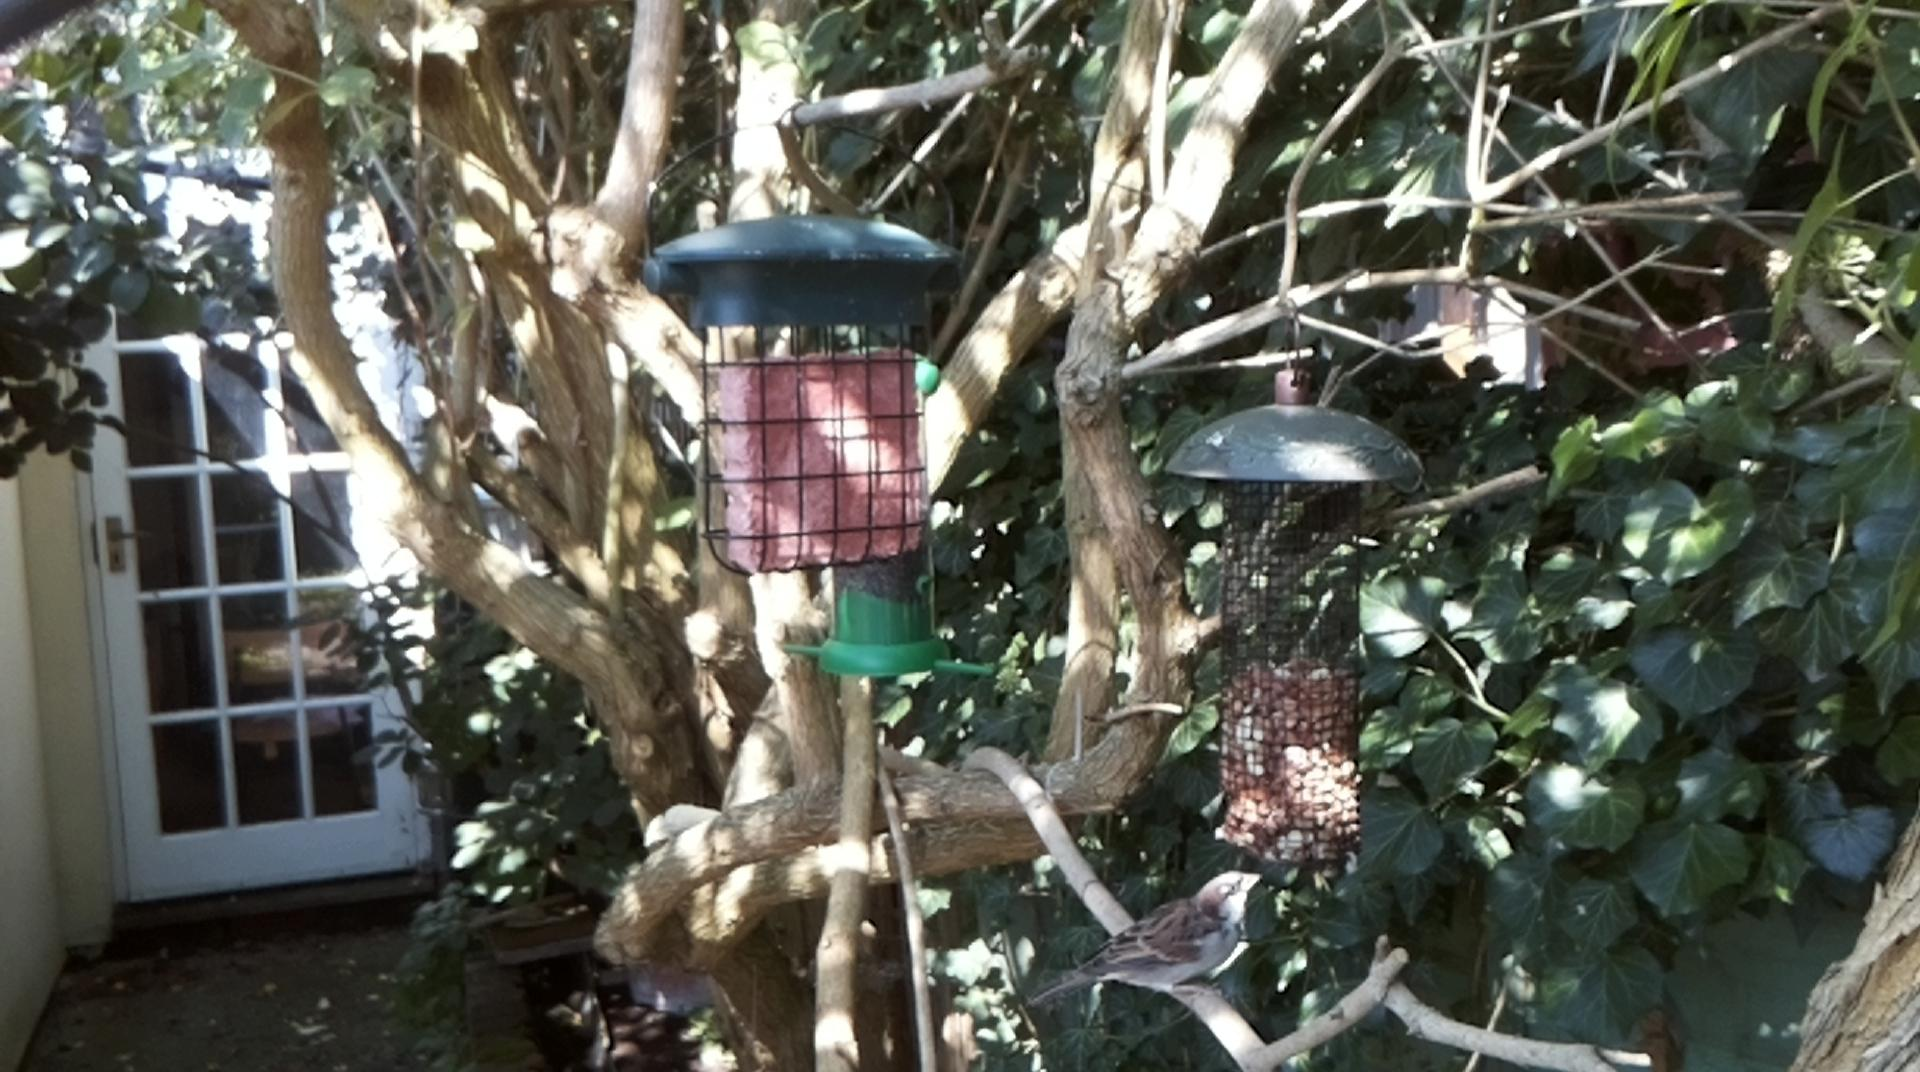sparrow: (1027, 870, 1263, 1010)
